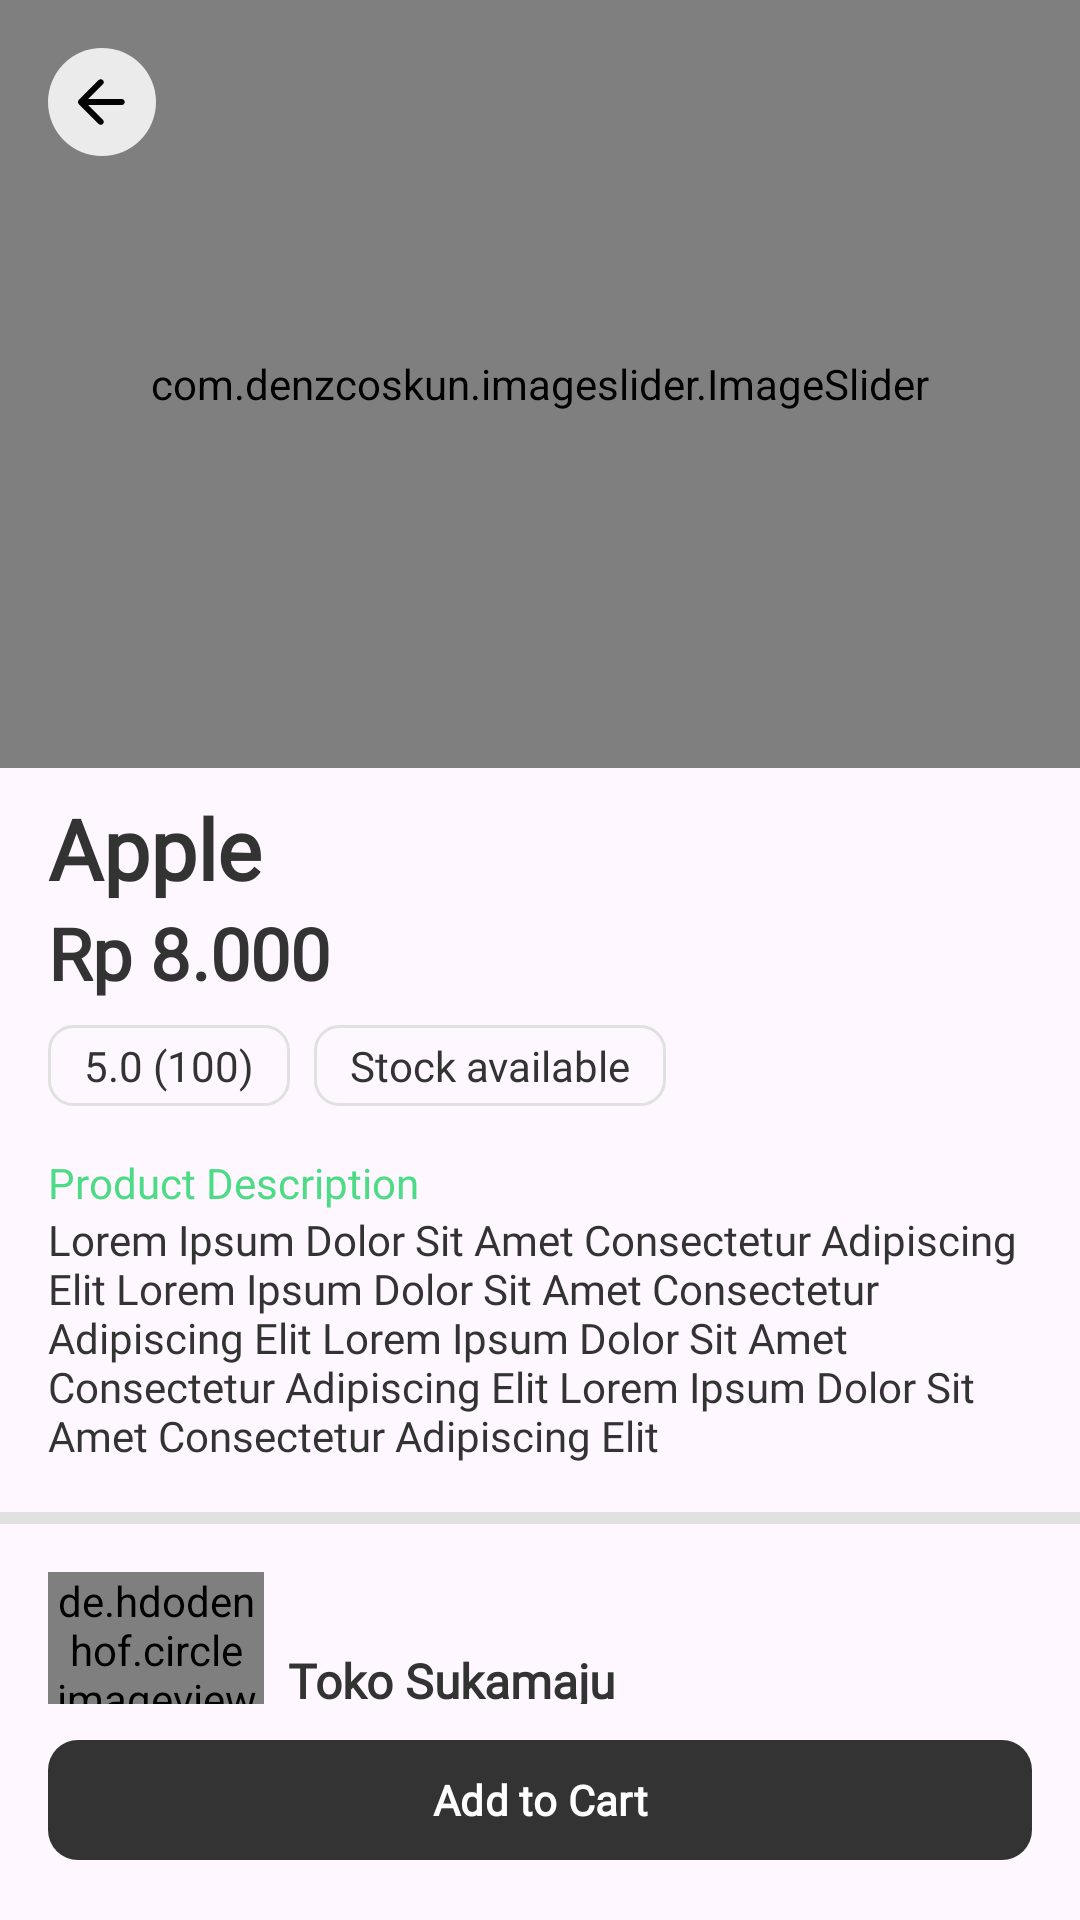

Icons on this 1080w x 1920h Android screen, each with the point to tap as (x,y):
Back: (102,102)
